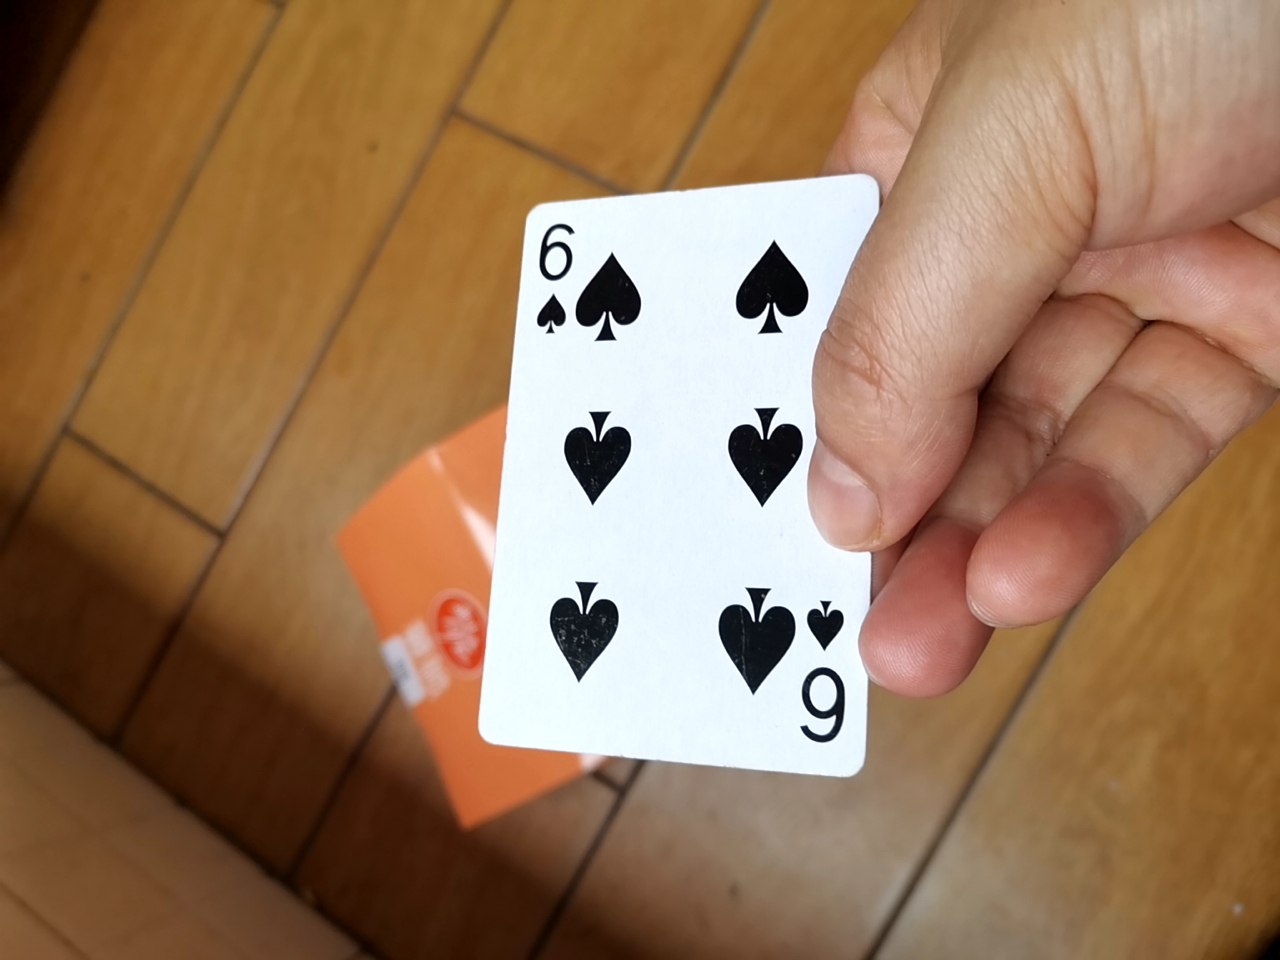ht 6: (465, 170, 870, 804)
